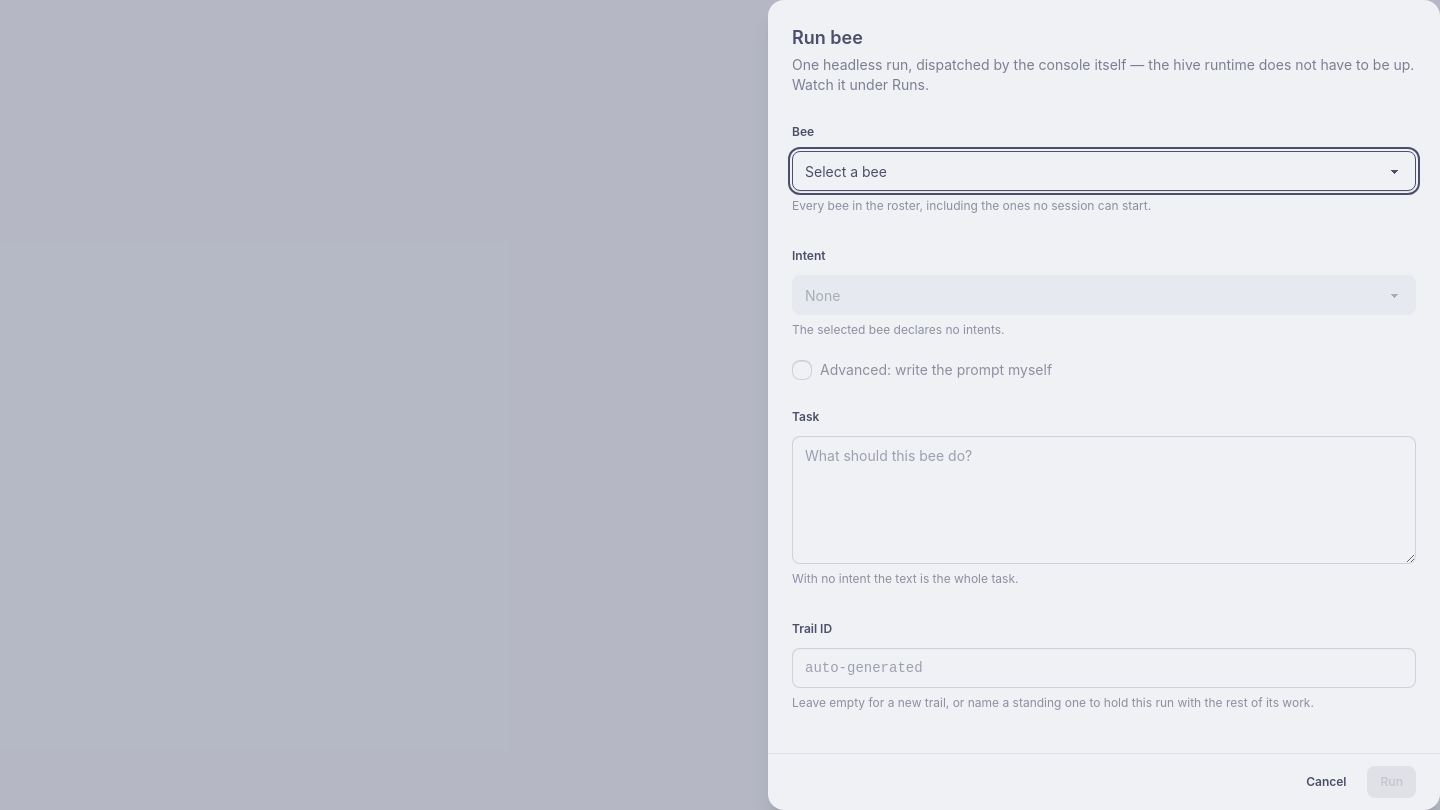
Test case: BeeRunDrawer › needs a bee and a task before it will run anything
The image size is (1440, 810).
Expected: the button "Run" is disabled, [1368,766,1416,798]
Select "builder — cursor" in the dropdown labelled "Bee": (1104, 171) [792,151,1416,191]
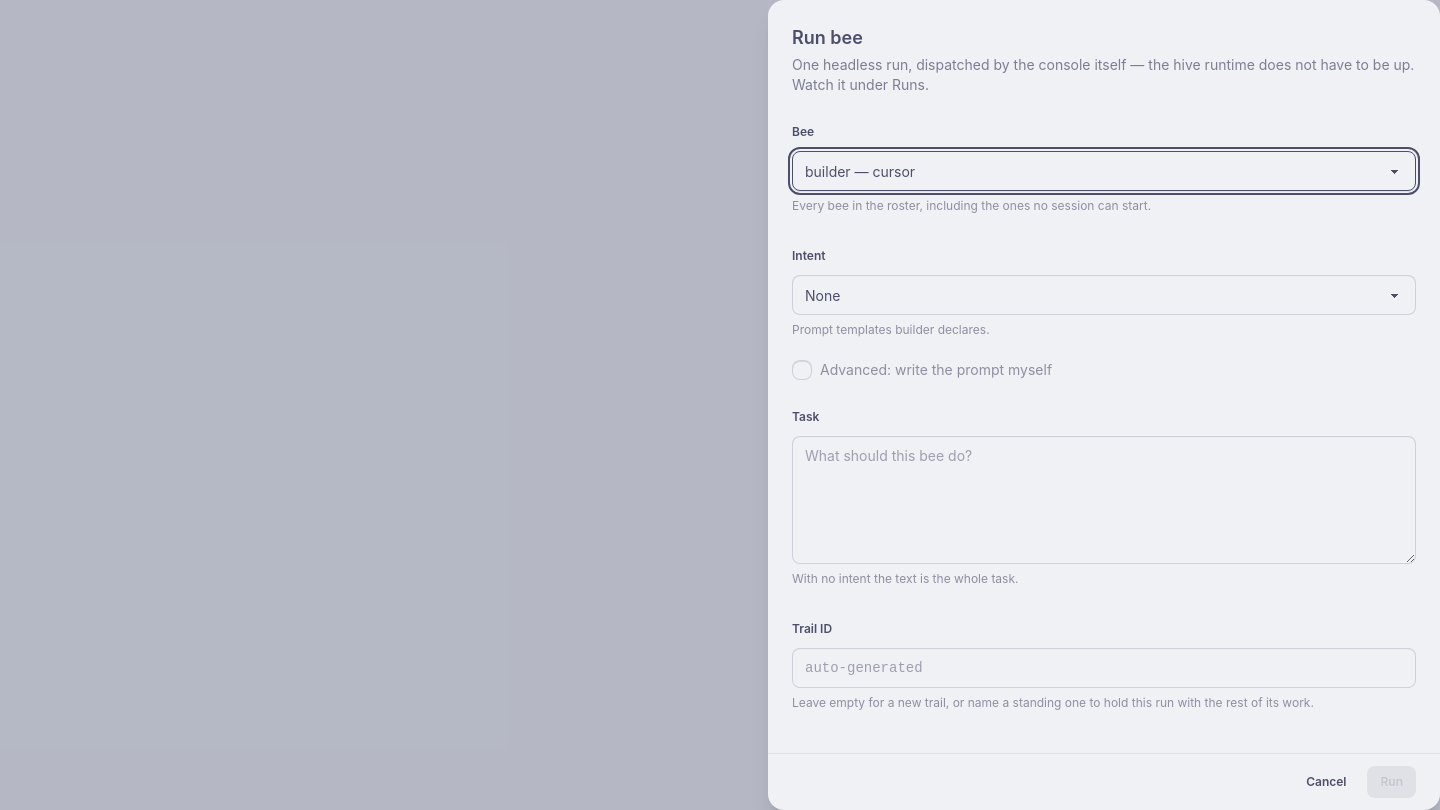
Expected: the button "Run" is disabled, [1368,766,1416,798]
In the text box labelled "Task": (1104, 500) [792,436,1416,564], type "x"
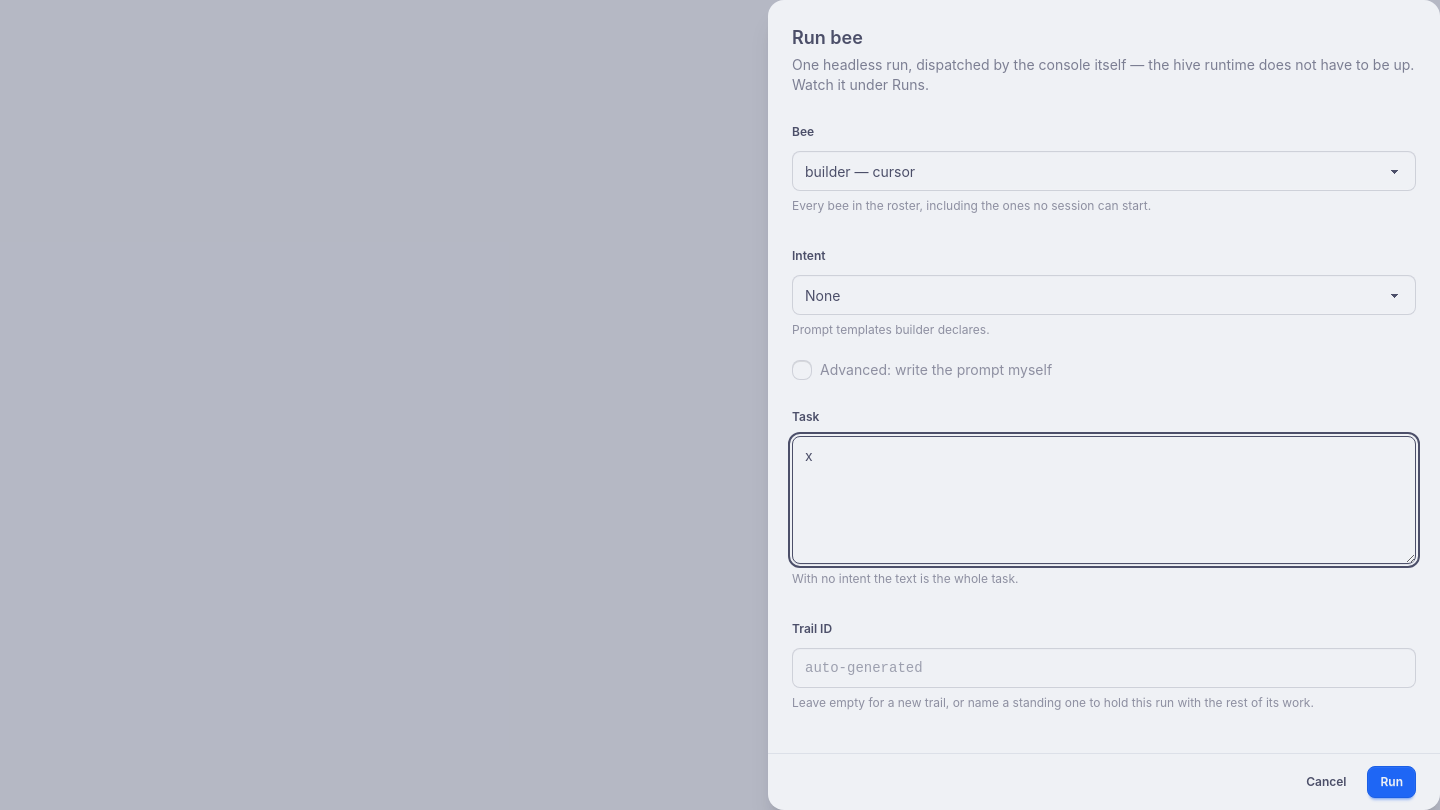
Result: the button "Run" is enabled at [1368,766,1416,798]
